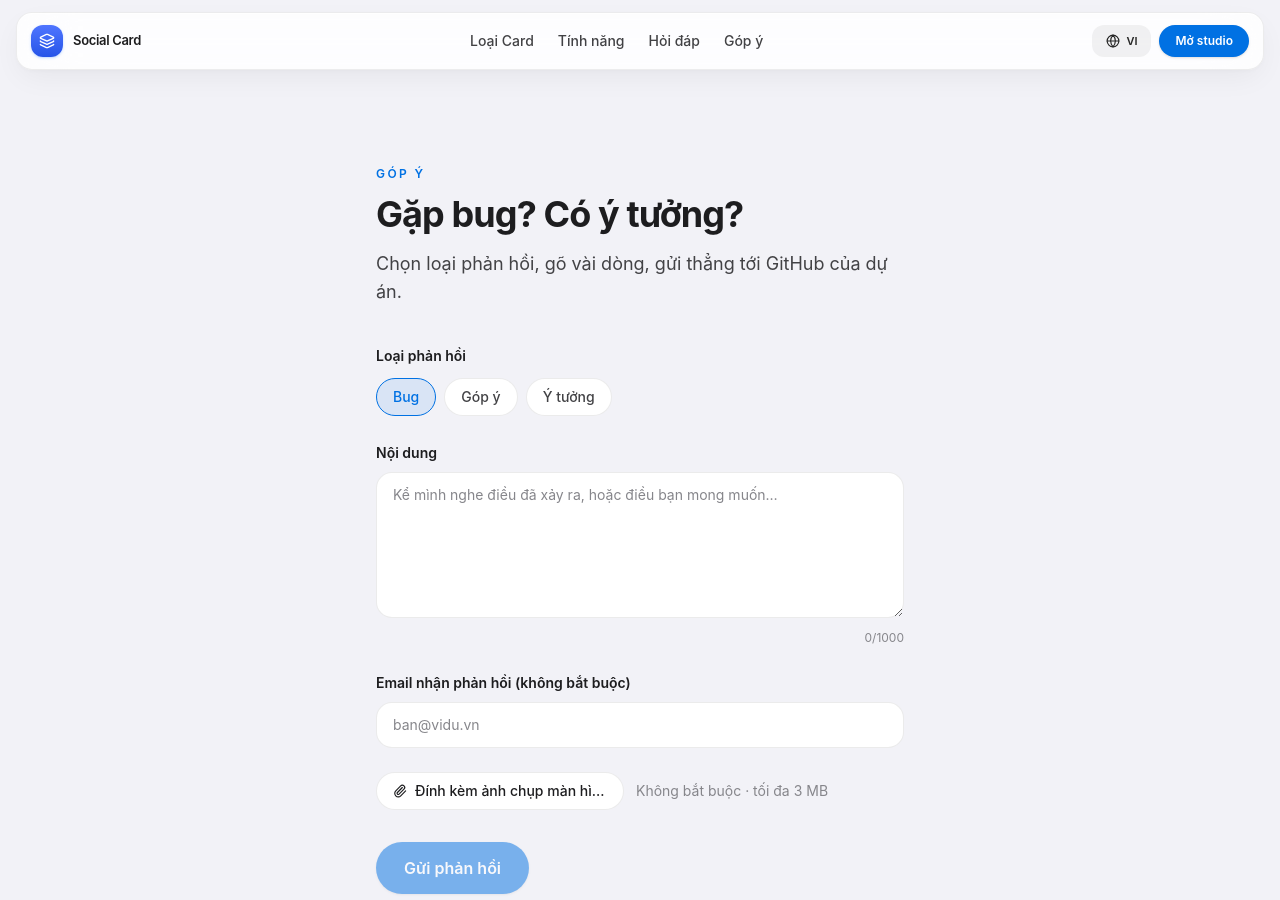
Test: FeedbackPage › starts with Bug picked and Send disabled until a message exists
Check: the radio button labelled "Bug" is checked, box [376,378,436,416]
Check: the button "Gửi phản hồi" is disabled, box [376,842,529,894]
Type "Xuất 16:9 bị lỗi" into the text box labelled "Nội dung" at (640, 545), box [376,472,904,618]
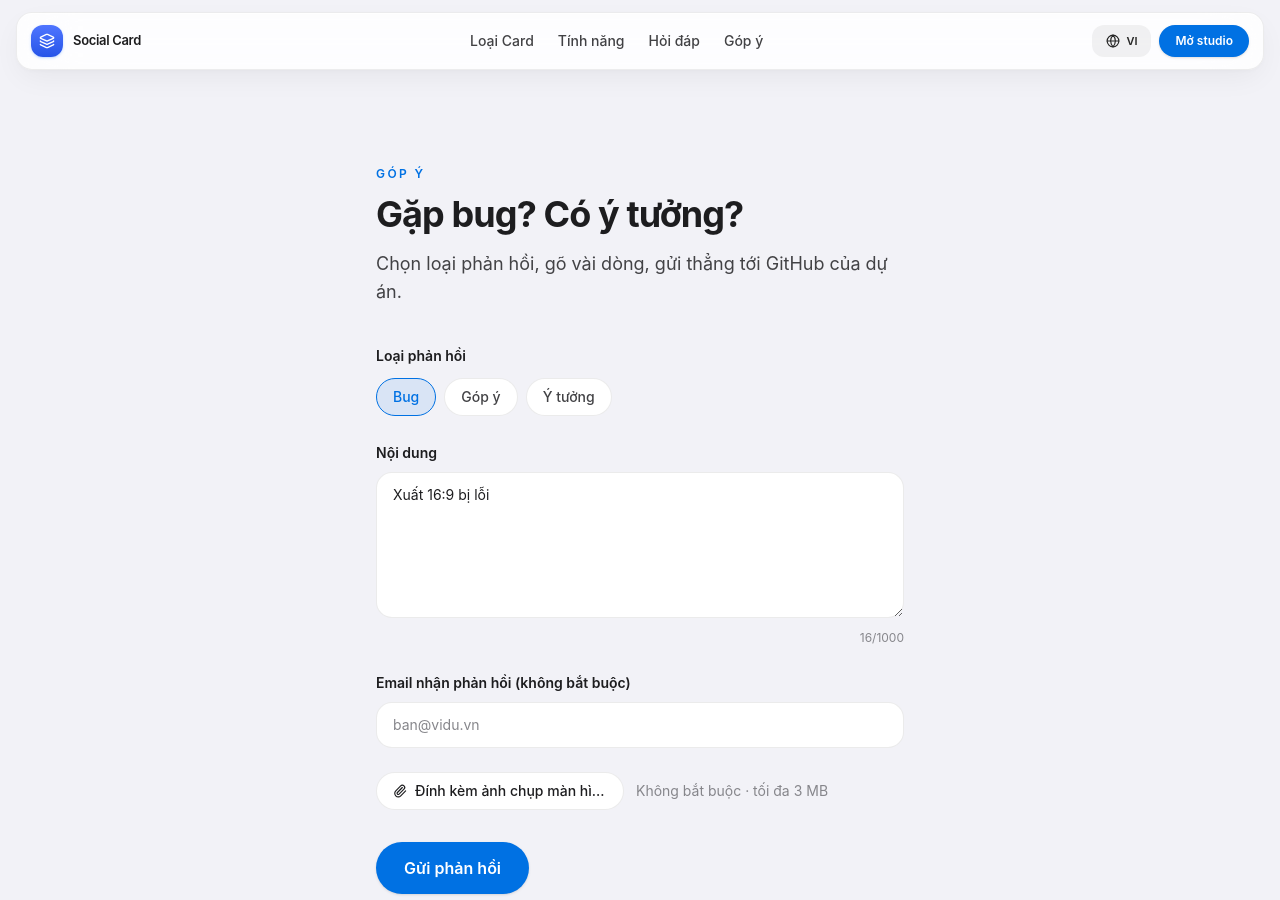
Check: the button "Gửi phản hồi" is enabled, box [376,842,529,894]
